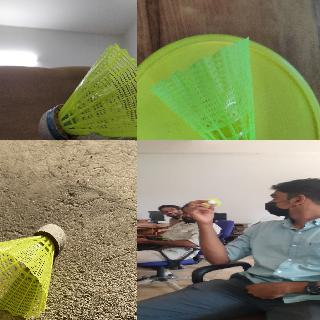shuttlecock: (150, 33, 271, 139), (37, 43, 136, 139), (0, 224, 65, 319), (202, 198, 221, 207)
